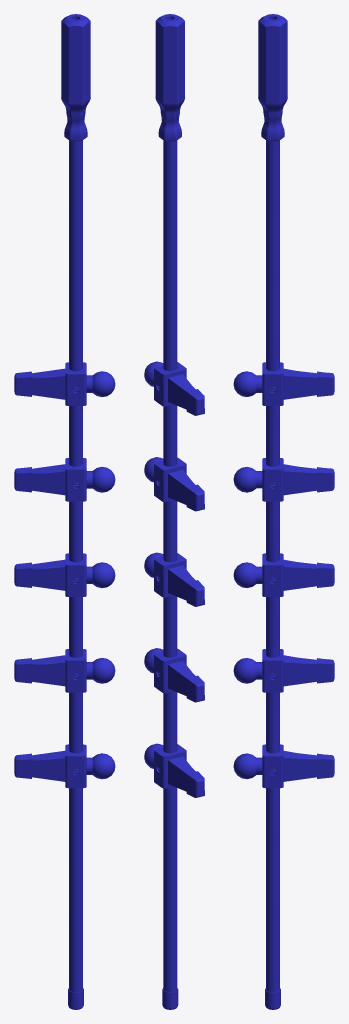
Rendered from 5-bar-centered_team_2.obj.
The picture shows the model from 3 angles, left to right: view 1: azimuth 90°, elevation 25°; view 2: azimuth 210°, elevation 25°; view 3: azimuth 270°, elevation 25°; orthographic projection.
Parts seen in each view (by area): view 1: 5-bar; view 2: 5-bar; view 3: 5-bar.
Part boxes in pixels (bbox=[...]): 5-bar: bbox=[14, 14, 115, 1009]; 5-bar: bbox=[144, 14, 204, 1009]; 5-bar: bbox=[233, 14, 334, 1009].
Bounding box in the file's own units: 0.032 × 1.24 × 0.115.
